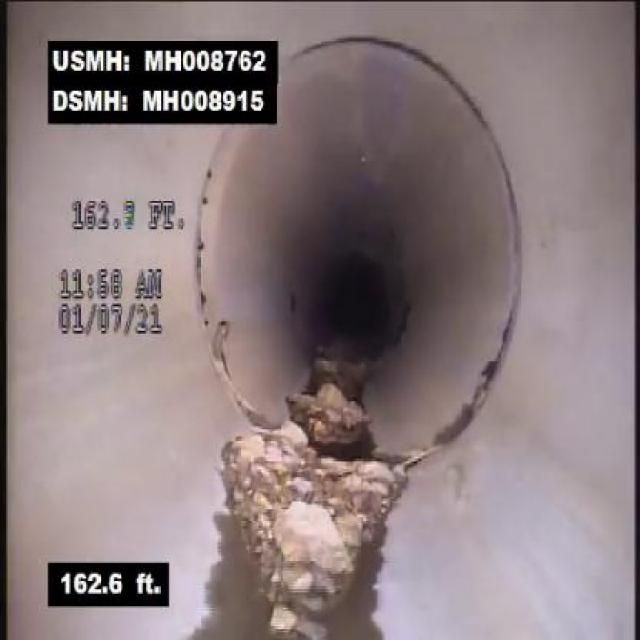Debris: (215, 403, 456, 605)
